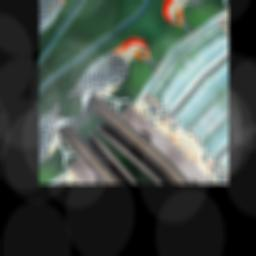Woodpecker: (58, 24, 168, 135)
